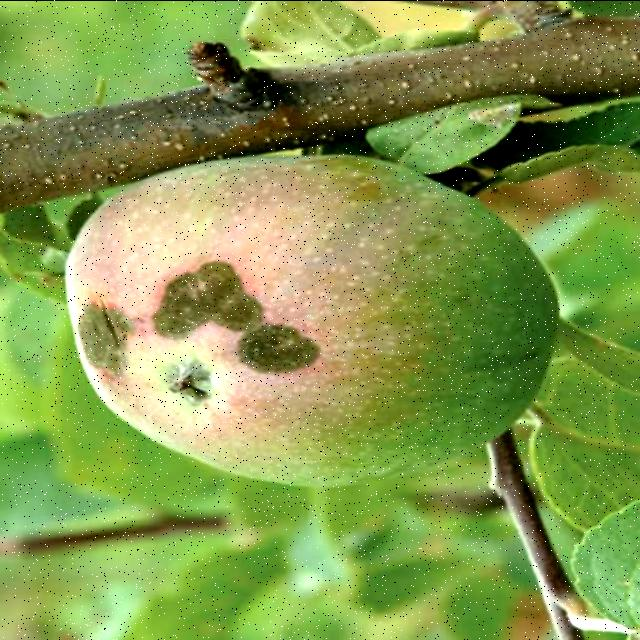SCAB: (42, 125, 592, 504)
